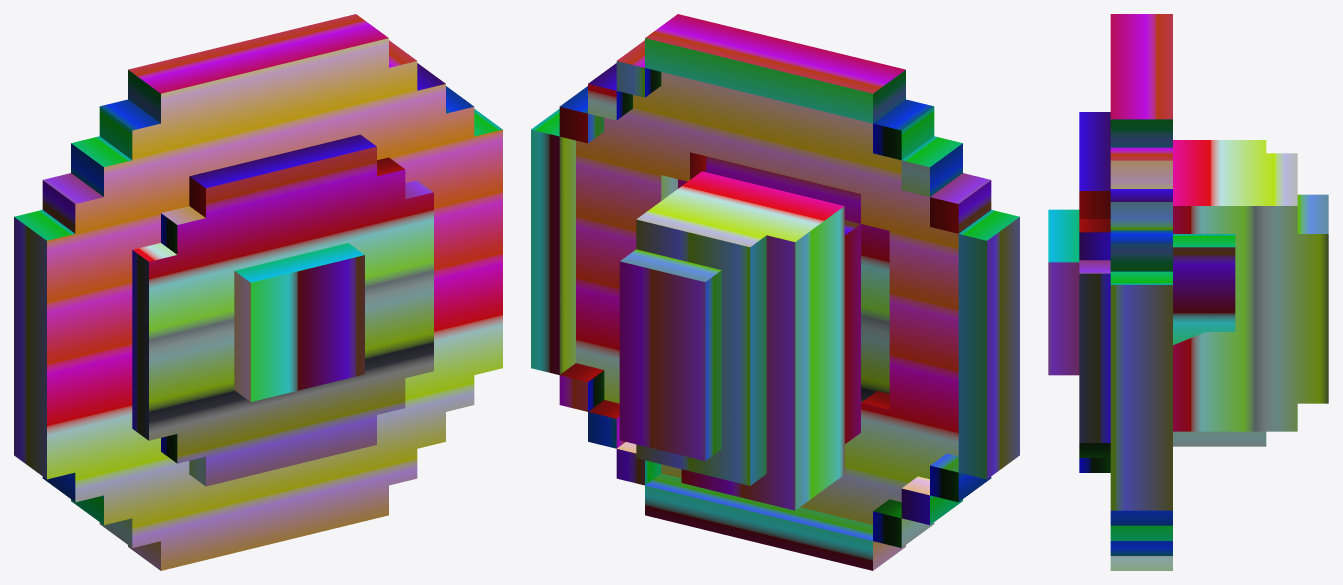
File: cogiendo_rodela.fbx
3 renders of one model, left to right at view 1: azimuth 30°, elevation 25°; view 2: azimuth 150°, elevation 25°; view 3: azimuth 270°, elevation 25°, orthographic. The views are drawn at different scales.
Parts seen in each view (by area): view 1: cogiendo_Rodela.001; view 2: cogiendo_Rodela.001; view 3: cogiendo_Rodela.001.
Part boxes in pixels (x1,y1,x2,y2): cogiendo_Rodela.001: [14, 14, 502, 570]; cogiendo_Rodela.001: [531, 14, 1019, 570]; cogiendo_Rodela.001: [1048, 14, 1328, 570].
Size of the model in its own units: 160 by 160 by 90.
